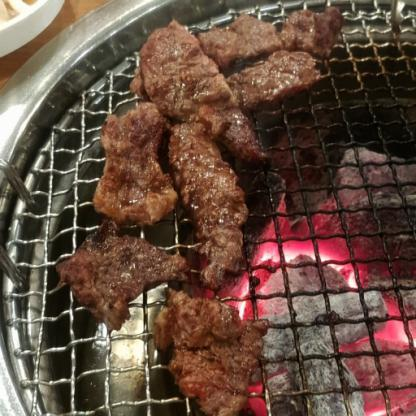Carne: (154, 292, 276, 415), (53, 230, 192, 330), (168, 121, 253, 282), (93, 97, 181, 227), (142, 18, 231, 123), (212, 0, 339, 67), (227, 51, 326, 116)
